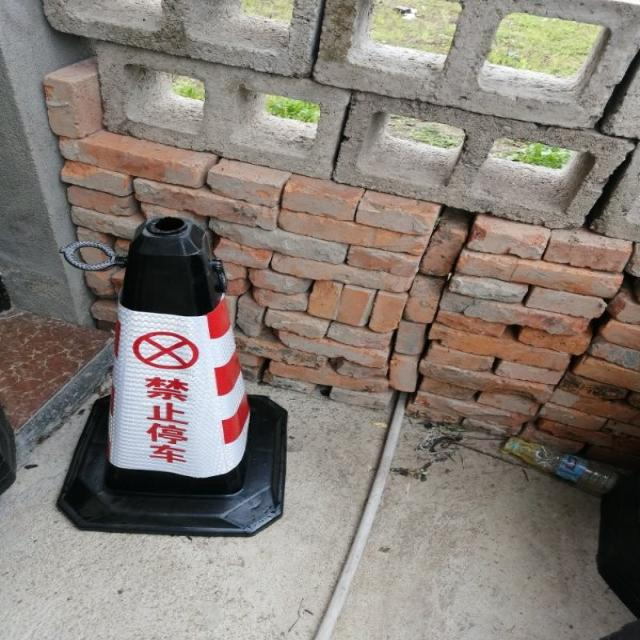reflective_cone: (57, 218, 291, 538)
